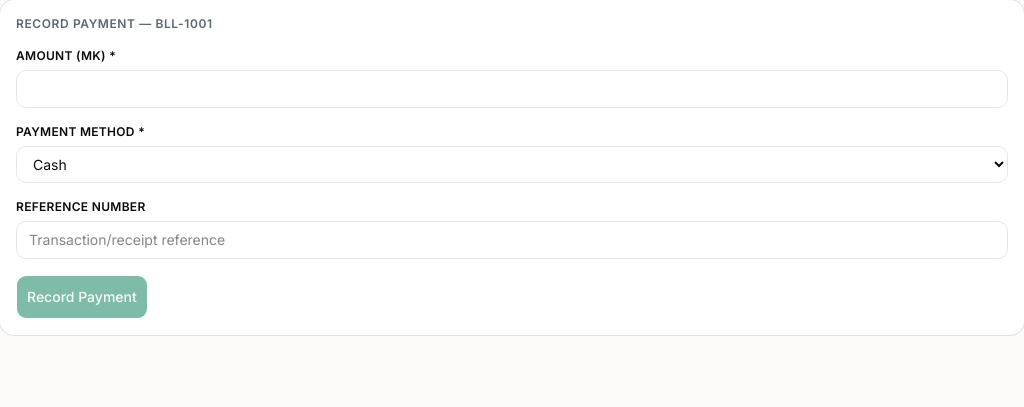
Test: PaymentForm › shows the specific unsupported-method message when payment_method fails validation
This screenshot has width=1024, height=407.
In the number field labelled "Amount (MK) *": (512, 89) [16, 70, 1008, 108], type "6000"
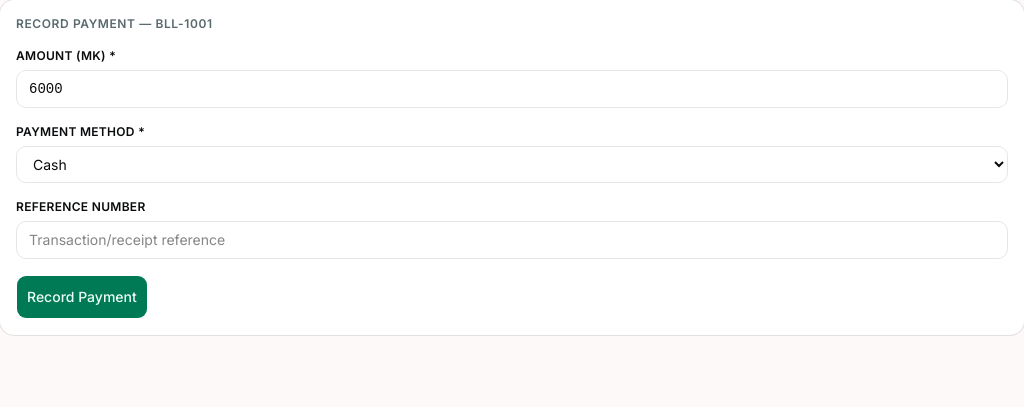
Select "Cash" in the dropdown labelled "Payment Method *": (512, 164) [16, 146, 1008, 183]
Click the button "Record Payment": (82, 297) [16, 275, 148, 319]
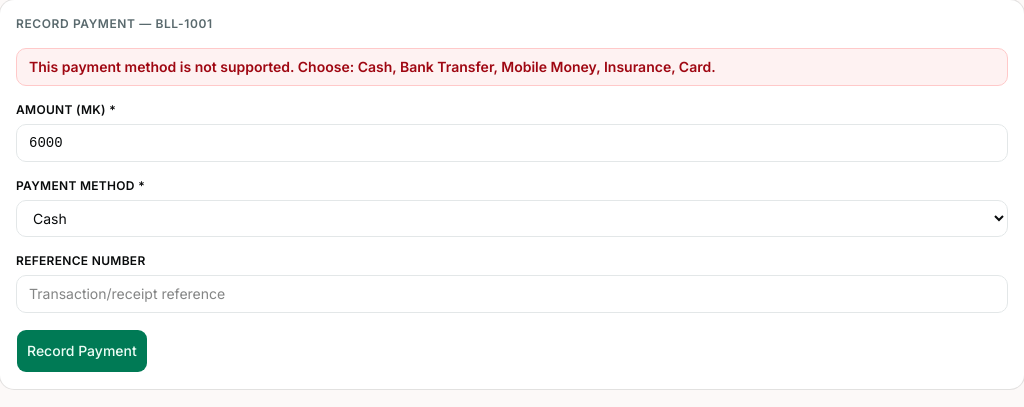
Check: the text "This payment method is not supported. Choose: Cash, Bank Transfer, Mobile Money, Insurance, Card." is shown, box [29, 58, 716, 75]
